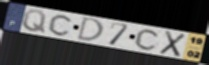7: (108, 21, 130, 47)
C: (133, 28, 161, 52), (47, 14, 75, 37)
D: (75, 16, 105, 43)
Q: (21, 9, 48, 35)
X: (158, 29, 188, 58)
